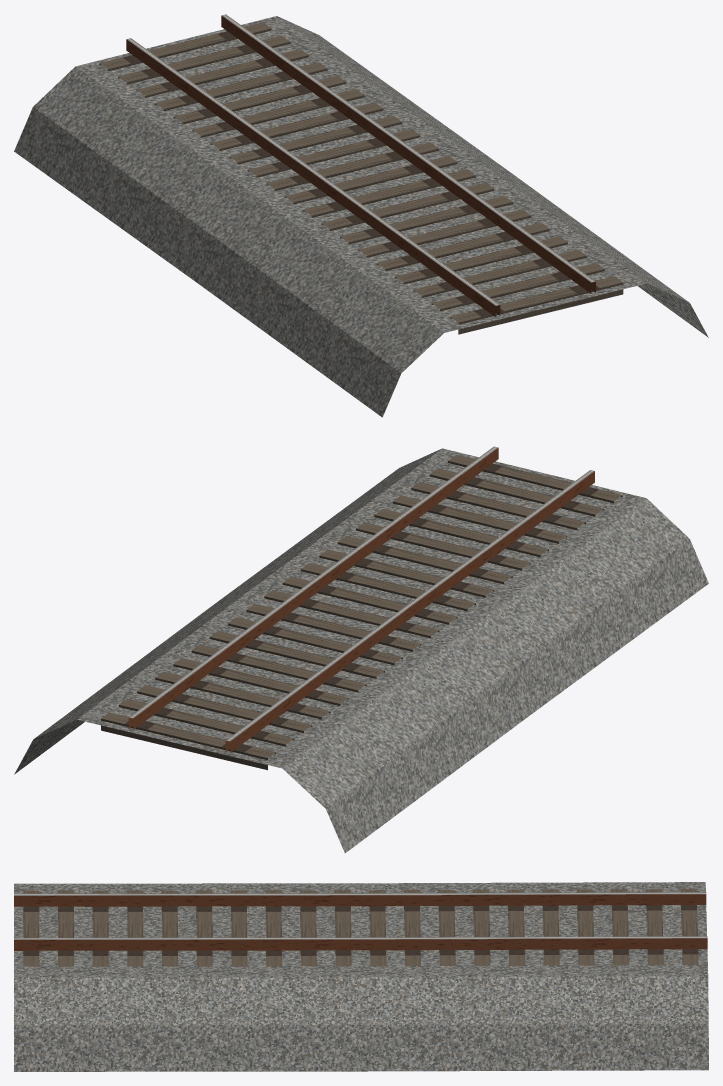
The model's file is rail_track_curve_r875_10m_l_v2_quest.glb.
3 renders of one model, top to bottom at view 1: azimuth 30°, elevation 25°; view 2: azimuth 150°, elevation 25°; view 3: azimuth 270°, elevation 25°, orthographic. The views are drawn at different scales.
Parts seen in each view (by area): view 1: rail_track_curve_r875_10m_l_v2_quest; view 2: rail_track_curve_r875_10m_l_v2_quest; view 3: rail_track_curve_r875_10m_l_v2_quest.
Part boxes in pixels (x1,y1,x2,y2): rail_track_curve_r875_10m_l_v2_quest: (14, 14, 708, 417); rail_track_curve_r875_10m_l_v2_quest: (14, 446, 708, 853); rail_track_curve_r875_10m_l_v2_quest: (14, 882, 708, 1071).
Size of what is drawn, in the model's own units: 5.21 by 1.27 by 10.03.
2 materials, 2 textured.
